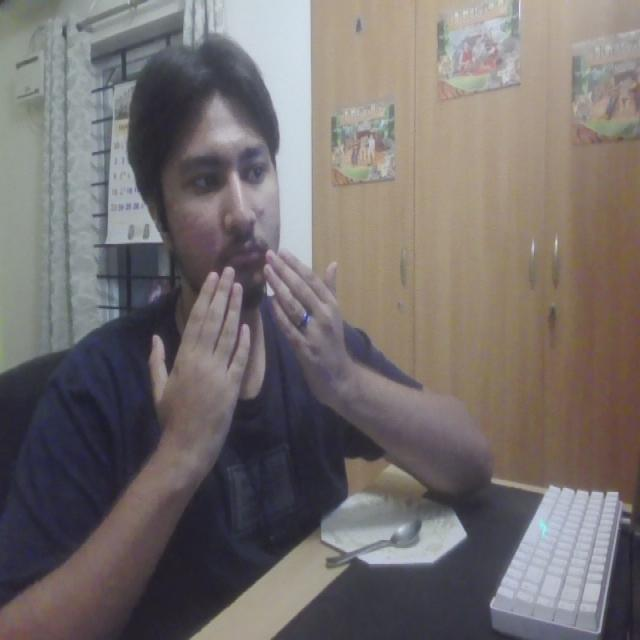thankyou: (137, 246, 366, 461)
